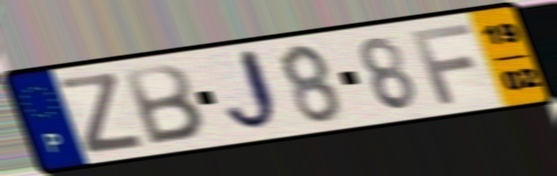8: (280, 43, 344, 126), (357, 35, 419, 112)
B: (120, 62, 208, 147)
F: (407, 20, 478, 107)
J: (221, 45, 285, 136)
Z: (56, 69, 147, 157)
